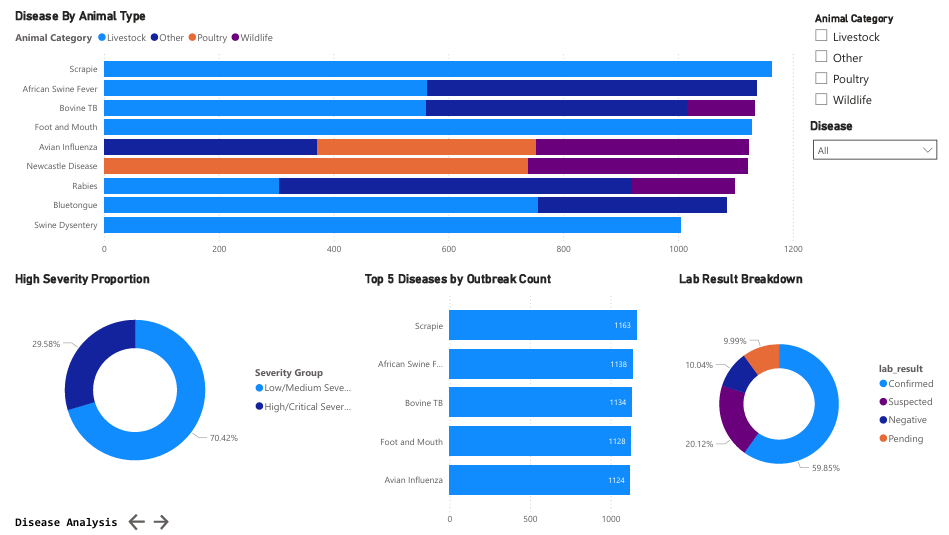

The dashboard page shown, as its layout file describes it:
{"tool":"powerbi","page":{"name":"Analysis","canvas":[1280,720],"ordinal":1},"visuals":[{"type":"barChart","title":"Disease By Animal Type","fields":{"Y":["animal_health_outbreaks.Total Outbreak"],"Category":["animal_health_outbreaks.disease"],"Series":["animal_health_outbreaks.Animal Category"]},"box":[0,0,1090,347],"z":0},{"type":"donutChart","title":"High Severity Proportion","fields":{"Category":["animal_health_outbreaks.Severity Group"],"Y":["CountNonNull(animal_health_outbreaks.outbreak_id)"]},"box":[0,360,480,308],"z":1000},{"type":"slicer","fields":{"Values":["animal_health_outbreaks.Animal Category"]},"box":[1090,0,149,151],"z":2000},{"type":"slicer","title":"Disease","fields":{"Values":["animal_health_outbreaks.disease"]},"box":[1090,151,190,61],"z":3000},{"type":"actionButton","box":[157,689,33,31],"z":4000},{"type":"actionButton","box":[190,689,29,31],"z":5000},{"type":"textbox","box":[0,690,151,29],"z":6000},{"type":"clusteredBarChart","title":"Top 5 Diseases by Outbreak Count","fields":{"Category":["animal_health_outbreaks.disease"],"Y":["animal_health_outbreaks.Total Outbreak"]},"box":[480,361,431,358],"z":7000},{"type":"donutChart","title":"Lab Result Breakdown","fields":{"Category":["animal_health_outbreaks.lab_result"],"Y":["animal_health_outbreaks.Total Outbreak"]},"box":[911,361,369,344],"z":8000}]}

Visuals, with their boxes in screenshot pixels (x1, y1, x2, y2), scaled from the page's 1280x720 canvas onto the 949x535 screenshot:
"Disease By Animal Type" barChart: (left=0, top=0, right=808, bottom=258)
"High Severity Proportion" donutChart: (left=0, top=268, right=356, bottom=496)
slicer - animal_health_outbreaks.Animal Category: (left=808, top=0, right=919, bottom=112)
"Disease" slicer: (left=808, top=112, right=948, bottom=158)
actionButton: (left=116, top=512, right=141, bottom=534)
actionButton: (left=141, top=512, right=162, bottom=534)
textbox: (left=0, top=513, right=112, bottom=534)
"Top 5 Diseases by Outbreak Count" clusteredBarChart: (left=356, top=268, right=675, bottom=534)
"Lab Result Breakdown" donutChart: (left=675, top=268, right=948, bottom=524)
